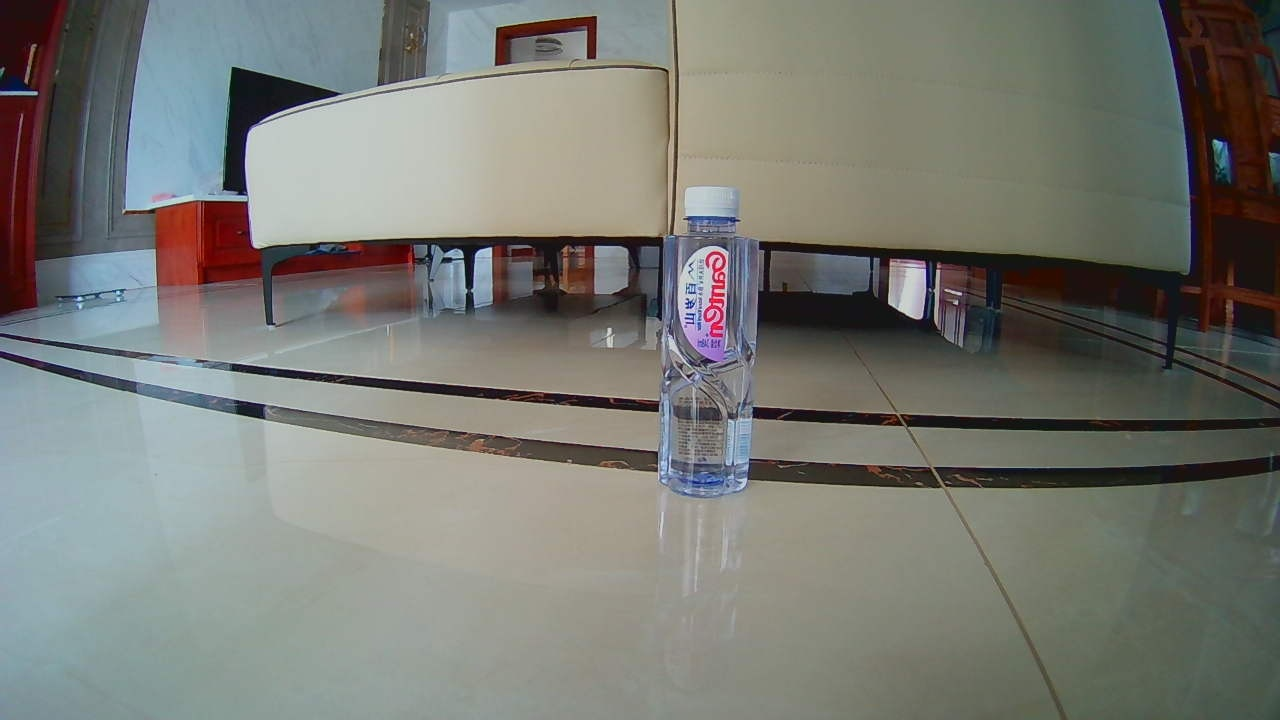water: (669, 192, 744, 485)
